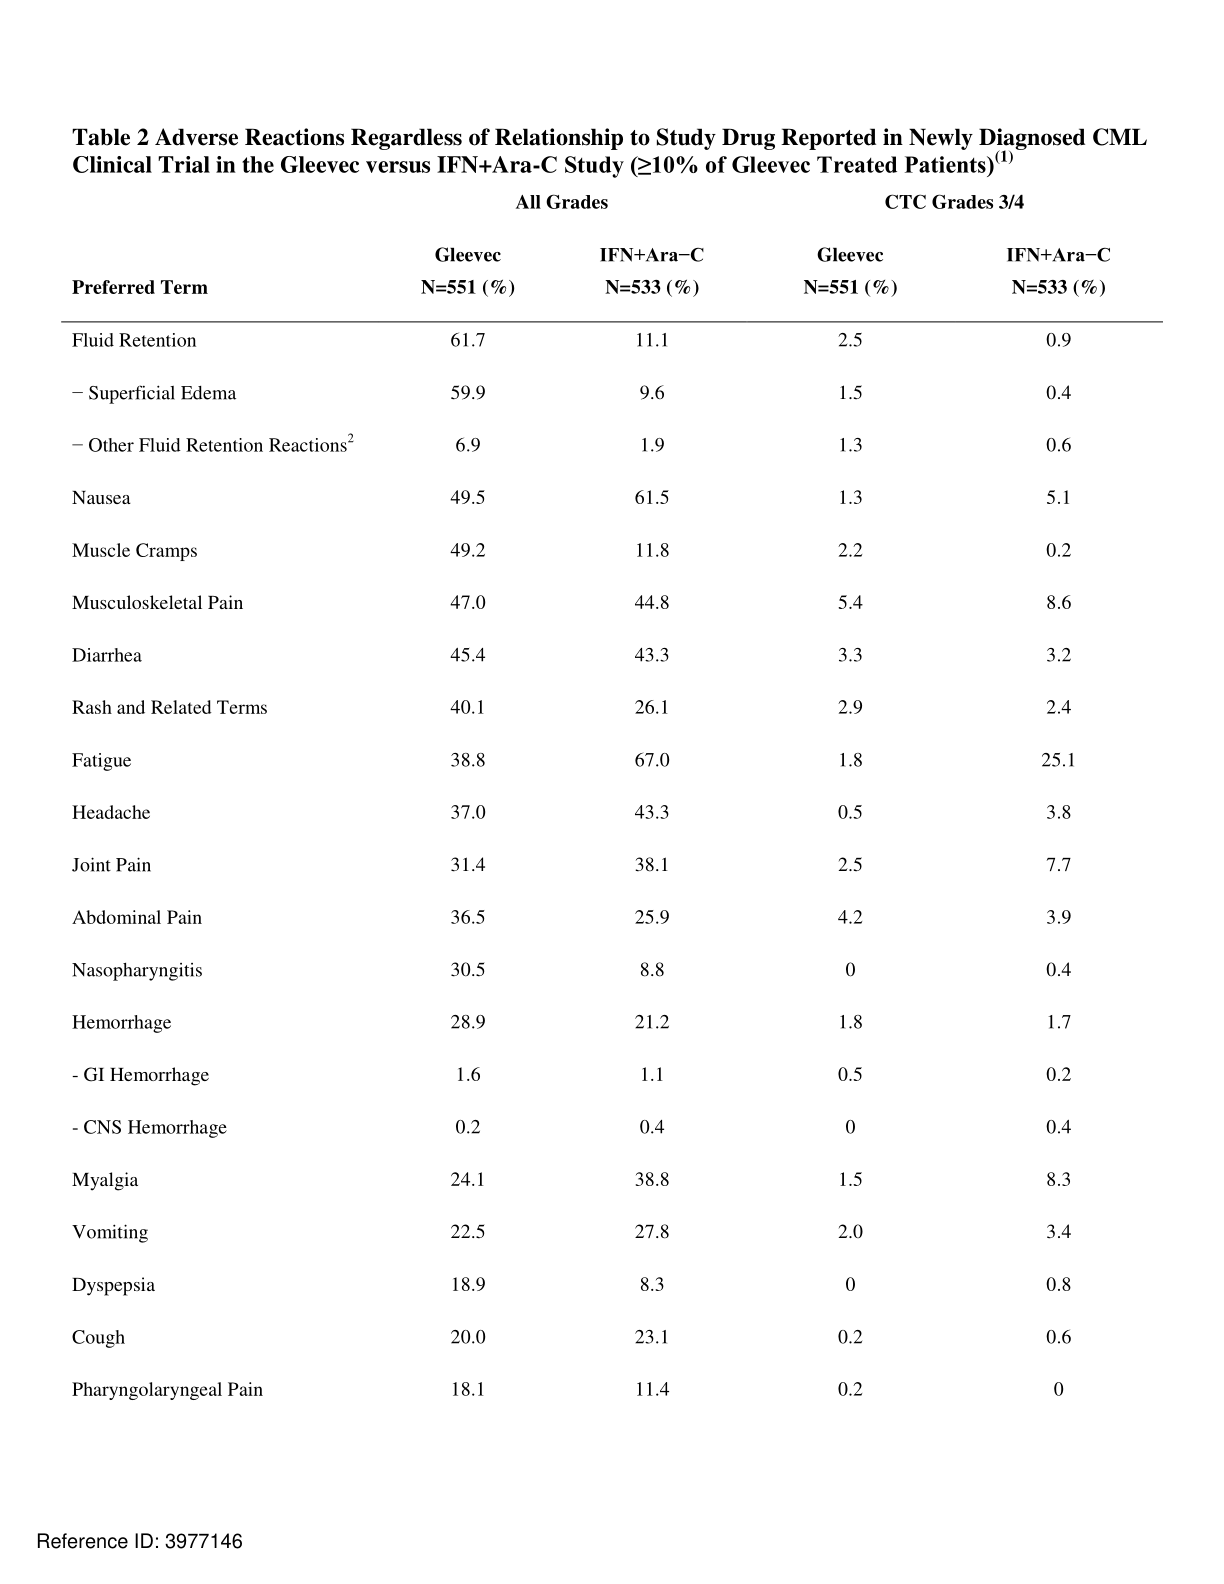partial_lined_merged_cells: (60, 190, 1165, 1404)
